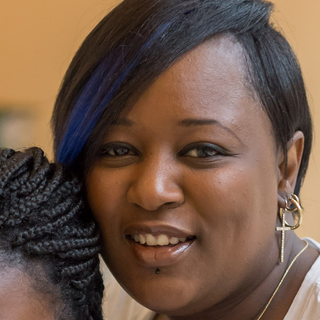eye: (181, 139, 233, 165), (99, 140, 145, 164)
